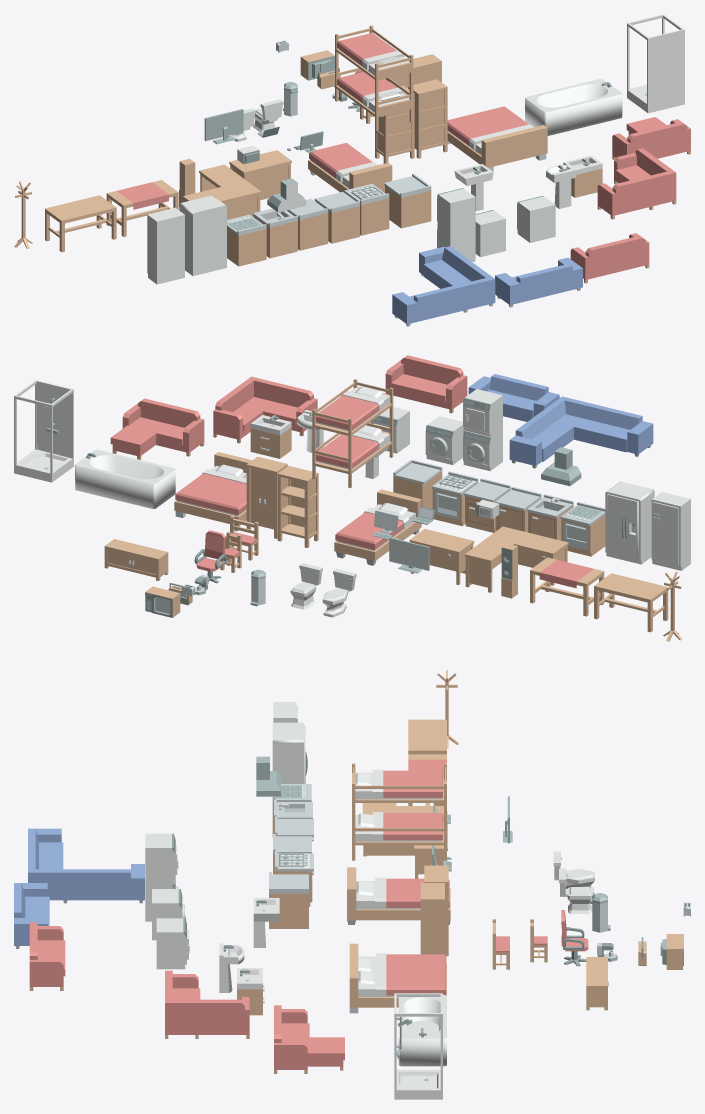
The model's file is furniture.fbx.
3 views of the same model, one above another, from view 1: azimuth 30°, elevation 25°; view 2: azimuth 150°, elevation 25°; view 3: azimuth 270°, elevation 25° (orthographic). The views are drawn at different scales.
Parts seen in each view (by area): view 1: bedbunk, loungeDesignSofaCorner, bedDouble, bathtub, shower, loungeSofaCorner, kitchenFridgeLarge, bedSingle, kitchenFridge, loungeDesignSofa, loungeSofaLong, washerDryer.stacked (+24 smaller); view 2: loungeDesignSofaCorner, bedbunk, shower, bathtub, loungeSofaCorner, loungeSofaLong, bedDouble, kitchenFridgeLarge, bedSingle, loungeSofa, deskCorner, washerDryer.stacked (+30 smaller); view 3: bedbunk, loungeDesignSofaCorner, bedDouble, loungeSofaCorner, bedSingle, loungeSofaLong, bathtub, shower, loungeSofa, washerDryer.stacked, kitchenFridgeLarge, kitchenCabinetCornerInner (+24 smaller).
Part boxes in pixels (x1,y1,x2,y2): bedbunk: (335, 25, 413, 130); loungeDesignSofaCorner: (392, 246, 495, 326); bedDouble: (447, 106, 547, 171); bathtub: (525, 78, 622, 135); shower: (627, 14, 684, 113); loungeSofaCorner: (597, 148, 676, 219); kitchenFridgeLarge: (179, 195, 226, 275); bedSingle: (308, 143, 392, 192); kitchenFridge: (147, 207, 184, 284); loungeDesignSofa: (495, 257, 582, 307); loungeSofaLong: (612, 117, 690, 159); washerDryer.stacked: (437, 188, 475, 261); loungeDesignSofaCorner: (509, 396, 653, 468); bedbunk: (312, 379, 393, 488); shower: (14, 380, 73, 482); bathtub: (75, 449, 175, 508); loungeSofaCorner: (213, 376, 317, 443); loungeSofaLong: (110, 398, 204, 459); bedDouble: (174, 452, 251, 531); kitchenFridgeLarge: (605, 481, 654, 564); bedSingle: (334, 489, 421, 565); loungeSofa: (385, 355, 467, 413); deskCorner: (464, 526, 568, 592); washerDryer.stacked: (463, 389, 502, 470); bedbunk: (352, 763, 446, 860); loungeDesignSofaCorner: (28, 828, 144, 903); bedDouble: (349, 943, 446, 1013); loungeSofaCorner: (165, 970, 249, 1038); bedSingle: (347, 867, 450, 924); loungeSofaLong: (274, 1005, 344, 1073); bathtub: (398, 995, 446, 1066); shower: (394, 993, 442, 1099); loungeSofa: (29, 922, 65, 990); washerDryer.stacked: (145, 833, 178, 921); kitchenFridgeLarge: (272, 722, 307, 783); kitchenCabinetCornerInner: (269, 872, 308, 928).
Bounding box in the file's own units: 3635 × 2866 × 725.
